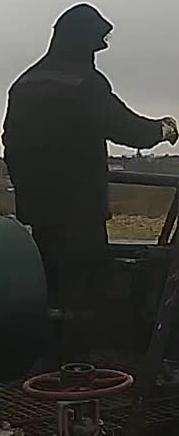gloves: (149, 115, 179, 151)
vest: (1, 64, 116, 237)
